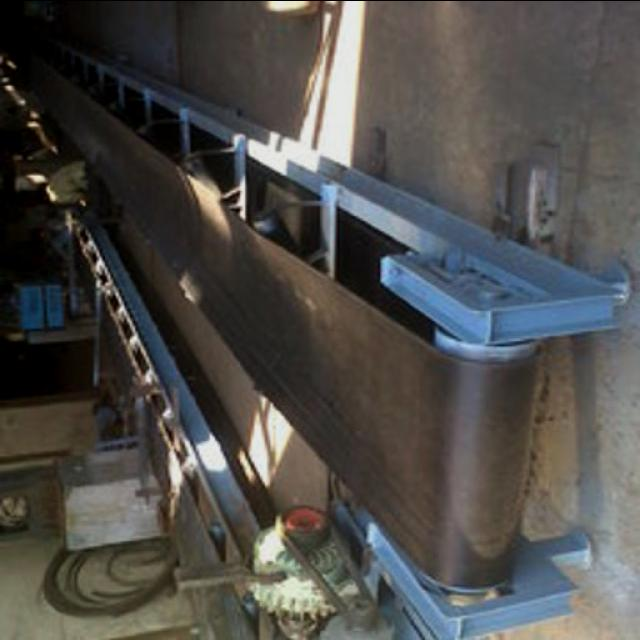conveyor: (30, 55, 537, 593)
